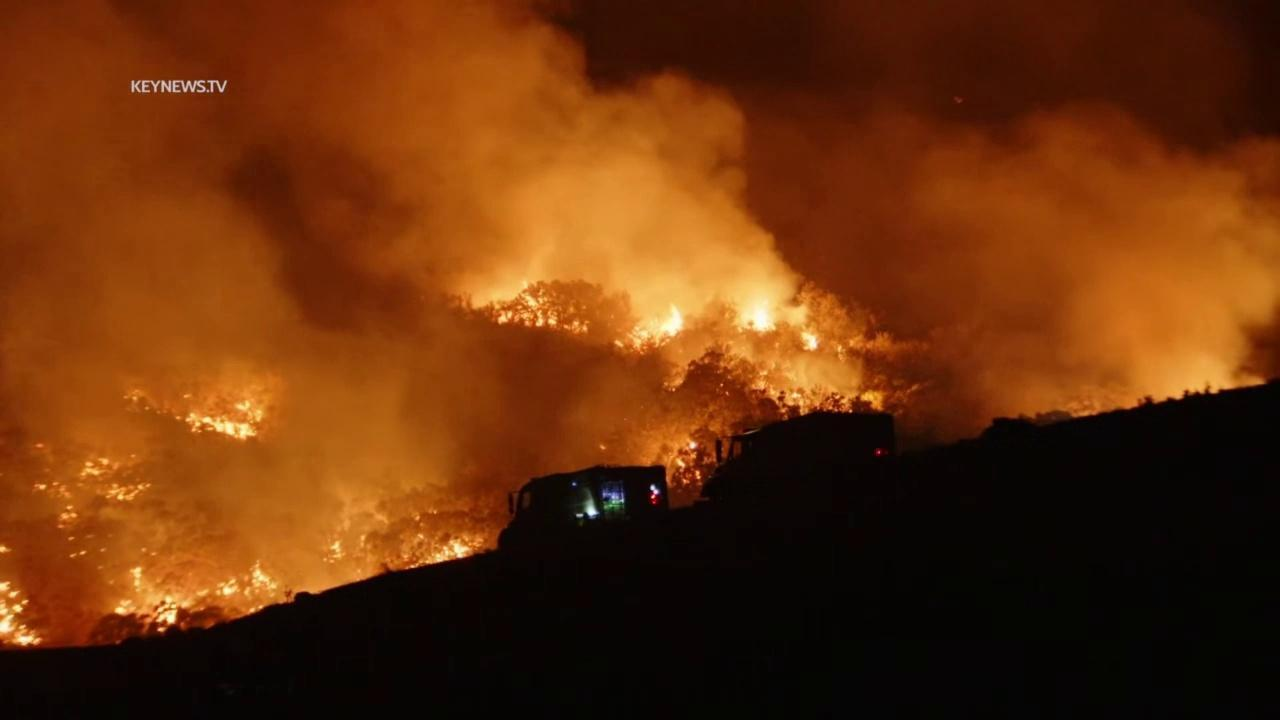fire: (154, 559, 279, 634), (184, 399, 266, 443), (79, 457, 153, 503), (0, 576, 45, 648), (489, 287, 563, 330), (626, 303, 684, 354), (403, 532, 475, 571), (728, 294, 778, 333), (322, 538, 347, 566), (797, 329, 820, 352), (674, 456, 691, 486), (113, 595, 137, 615), (129, 565, 145, 592), (787, 389, 803, 402), (0, 544, 15, 553), (694, 467, 703, 482), (687, 439, 699, 450)
smoke: (0, 0, 1280, 658)
